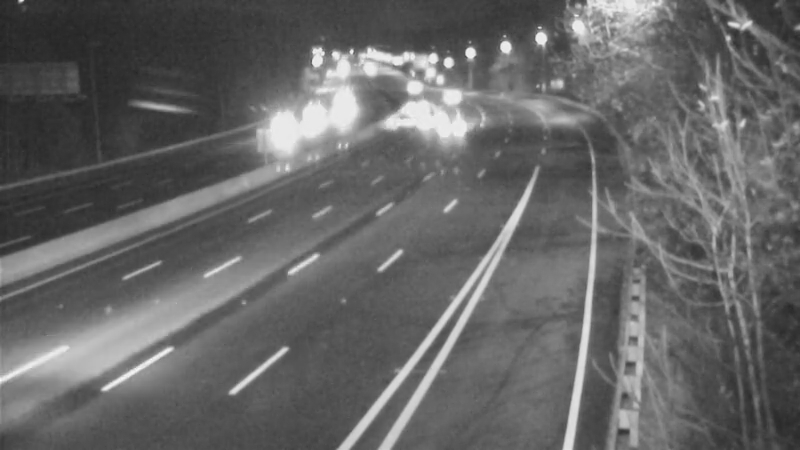vehicle: (426, 68, 476, 118), (391, 80, 441, 130), (392, 101, 442, 151), (372, 97, 422, 147), (430, 102, 480, 152), (256, 116, 306, 166), (290, 90, 340, 140), (319, 70, 369, 120)
